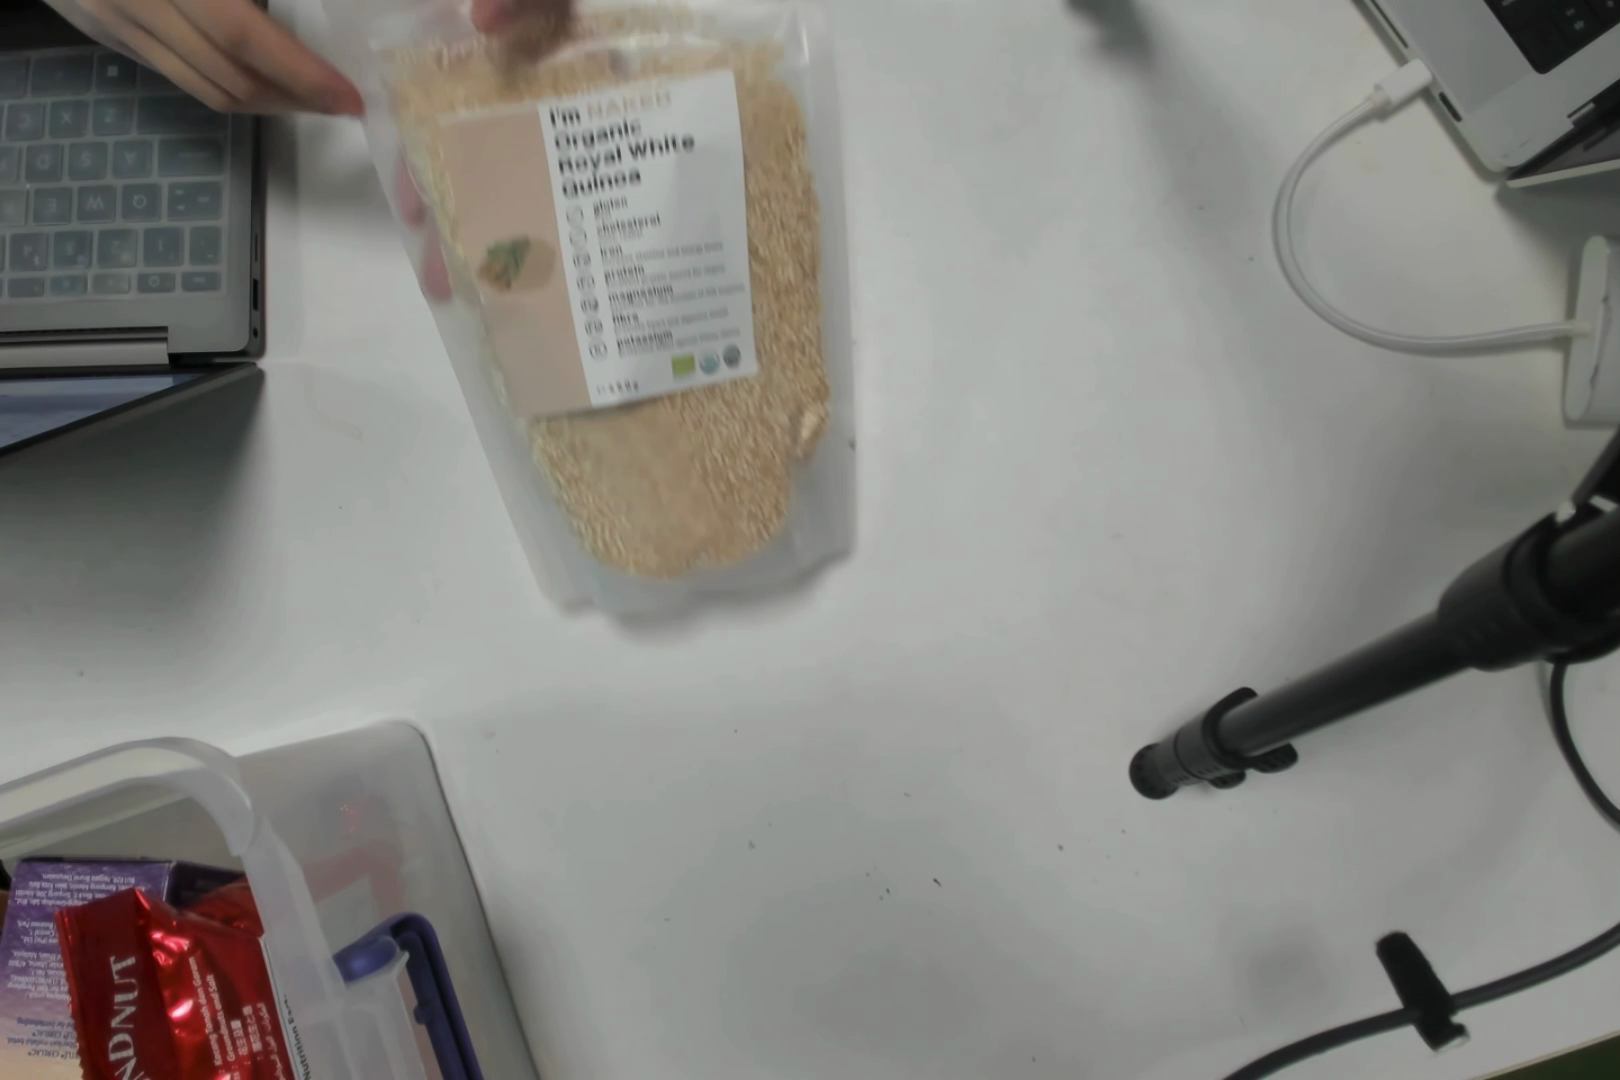Rice(brown-others)_400-499g_Halal_NonHealthy: (425, 63, 850, 599)
